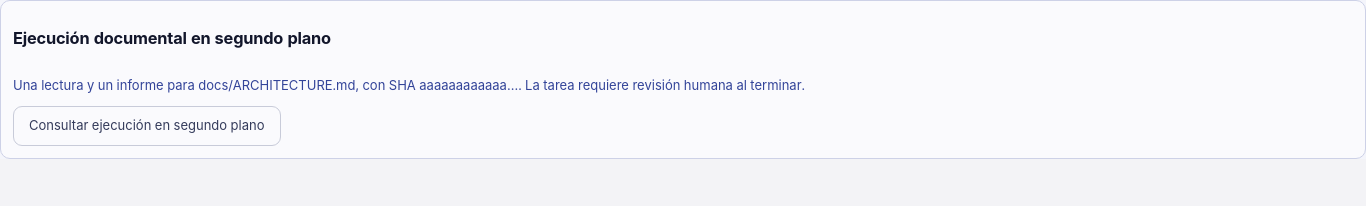
Test: durable document queue › blocks actions for a mismatched capability scope
Click the button "Consultar ejecución en segundo plano" at (147, 126), box [13,106,280,146]
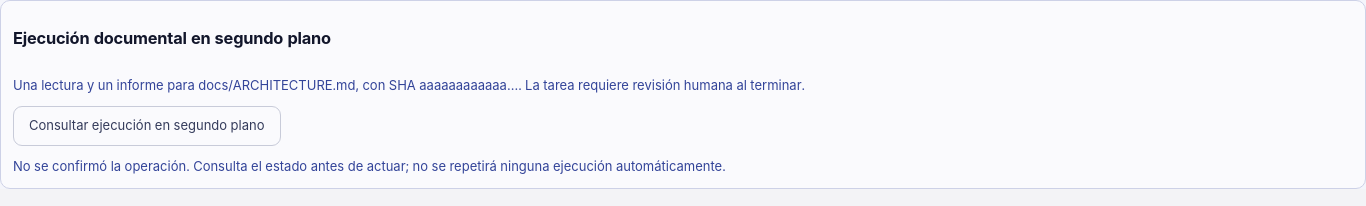
Now the text "No se confirmó la operación" is shown, box [13,158,726,174]
